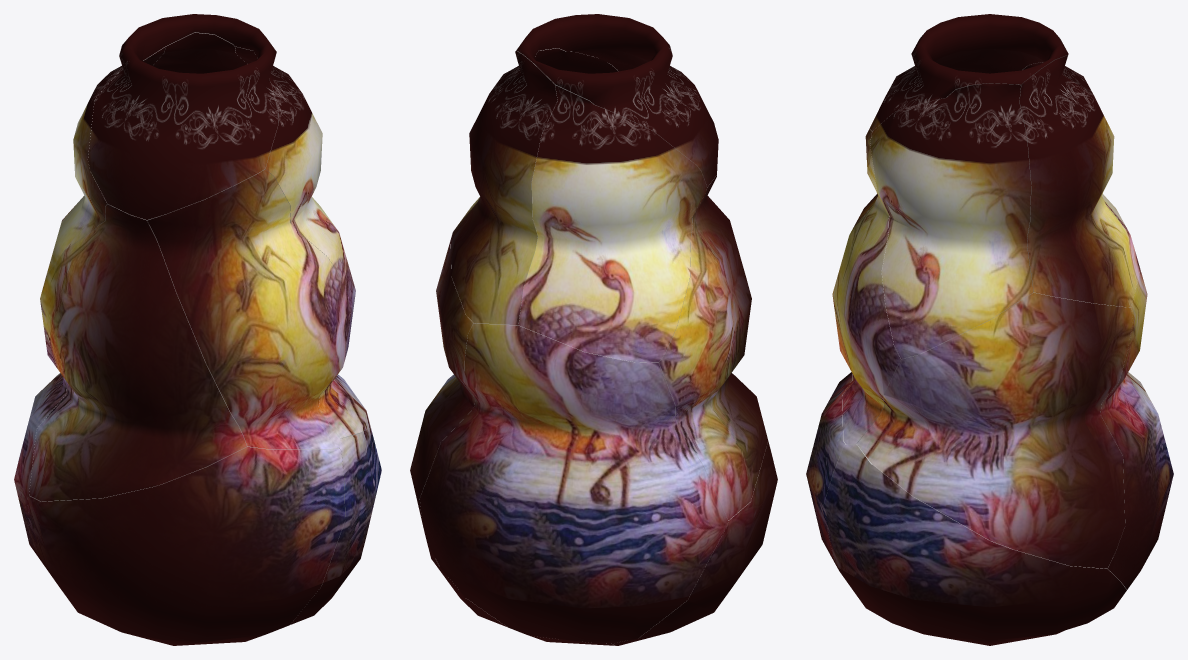
The model's file is JVase_1_cell.fbx.
The picture shows the model from 3 angles, left to right: view 1: azimuth 30°, elevation 25°; view 2: azimuth 150°, elevation 25°; view 3: azimuth 270°, elevation 25°; orthographic projection.
Parts seen in each view (by area): view 1: JVase_1_cell_001, JVase_1_cell_006, JVase_1_cell_005, JVase_1_cell_004, JVase_1_cell_002, JVase_1_cell, JVase_1_cell_007, JVase_1_cell_009, JVase_1_cell_008, JVase_1_cell_003; view 2: JVase_1_cell_008, JVase_1_cell_007, JVase_1_cell_006, JVase_1_cell_009, JVase_1_cell_004, JVase_1_cell_001, JVase_1_cell_003, JVase_1_cell_002, JVase_1_cell; view 3: JVase_1_cell_003, JVase_1_cell_002, JVase_1_cell, JVase_1_cell_009, JVase_1_cell_004, JVase_1_cell_005, JVase_1_cell_008, JVase_1_cell_001, JVase_1_cell_007.
Boxes of the visible parts, box(x1,y1,x2,y2) form: JVase_1_cell_001: box(27, 446, 345, 645); JVase_1_cell_006: box(29, 204, 246, 501); JVase_1_cell_005: box(147, 169, 352, 449); JVase_1_cell_004: box(88, 14, 278, 219); JVase_1_cell_002: box(235, 36, 355, 311); JVase_1_cell: box(290, 427, 381, 624); JVase_1_cell_007: box(44, 47, 165, 283); JVase_1_cell_009: box(153, 32, 247, 73); JVase_1_cell_008: box(14, 373, 66, 544); JVase_1_cell_003: box(318, 293, 370, 438); JVase_1_cell_008: box(420, 323, 728, 643); JVase_1_cell_007: box(518, 85, 706, 362); JVase_1_cell_006: box(659, 175, 767, 520); JVase_1_cell_009: box(450, 50, 557, 325); JVase_1_cell_004: box(516, 14, 718, 186); JVase_1_cell_001: box(611, 373, 777, 645); JVase_1_cell_003: box(410, 240, 475, 517); JVase_1_cell_002: box(459, 36, 618, 223); JVase_1_cell: box(418, 506, 615, 645); JVase_1_cell_003: box(857, 292, 1132, 568); JVase_1_cell_002: box(870, 83, 1033, 358); JVase_1_cell: box(823, 444, 1126, 645); JVase_1_cell_009: box(1019, 55, 1140, 307); JVase_1_cell_004: box(869, 14, 1068, 131); JVase_1_cell_005: box(832, 129, 900, 444); JVase_1_cell_008: box(1100, 270, 1173, 589); JVase_1_cell_001: box(806, 372, 852, 560); JVase_1_cell_007: box(1022, 62, 1130, 234).
Bounding box in the file's own units: 58.58 × 98.85 × 58.58.
